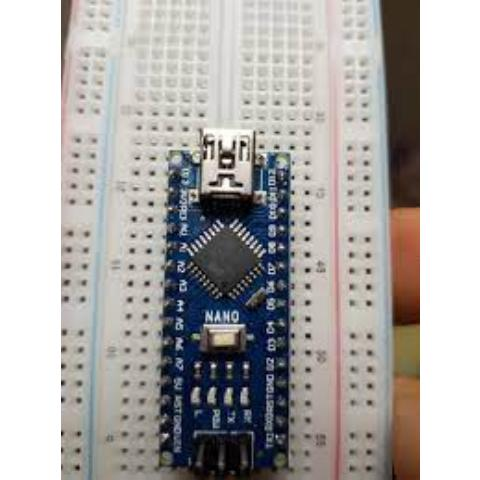Arduino-Nano: (144, 118, 304, 480)
